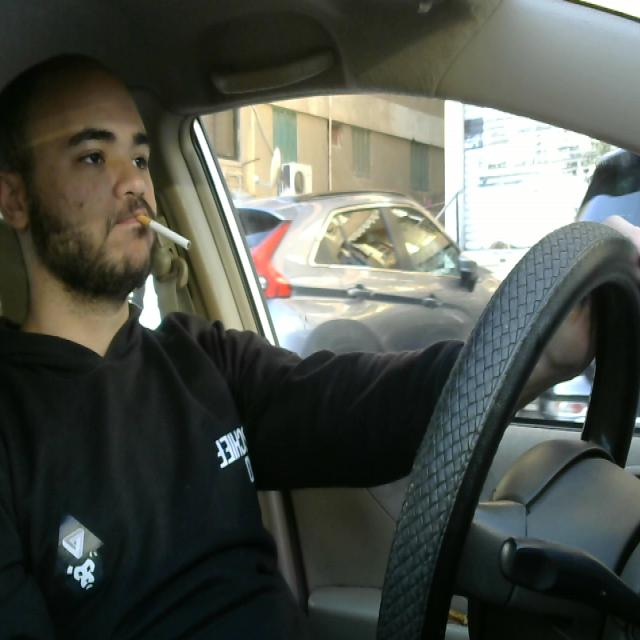smoking: (127, 202, 203, 264)
